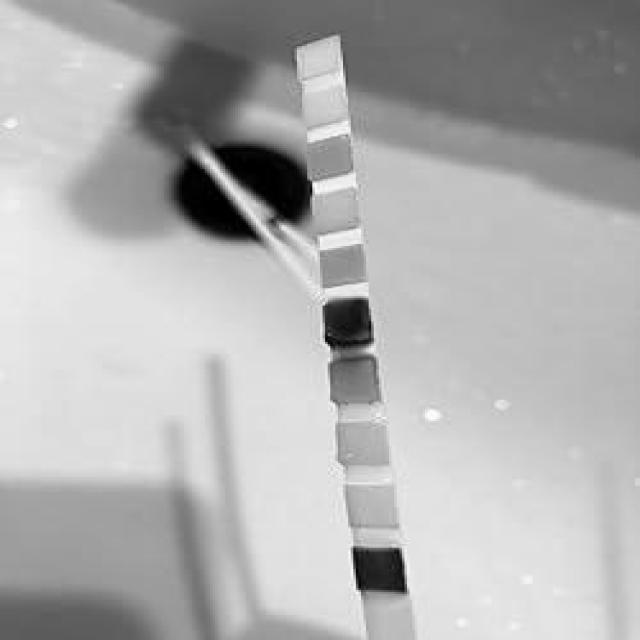Bilirubin: (350, 485, 394, 526)
Blood: (324, 306, 368, 340)
Glucose: (358, 550, 403, 590)
Ketone: (342, 422, 386, 463)
Leukocytes: (297, 47, 340, 66)
Nitrite: (304, 95, 346, 117)
Protein: (313, 198, 358, 225)
SpGravity: (330, 364, 374, 401)
Urobilinogen: (308, 145, 350, 169)
background: (0, 0, 640, 640)
pH: (322, 252, 364, 280)
strip: (294, 32, 415, 638)
